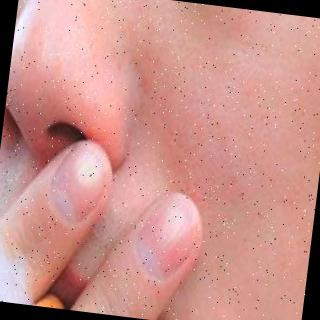smoke: (0, 258, 40, 306)
